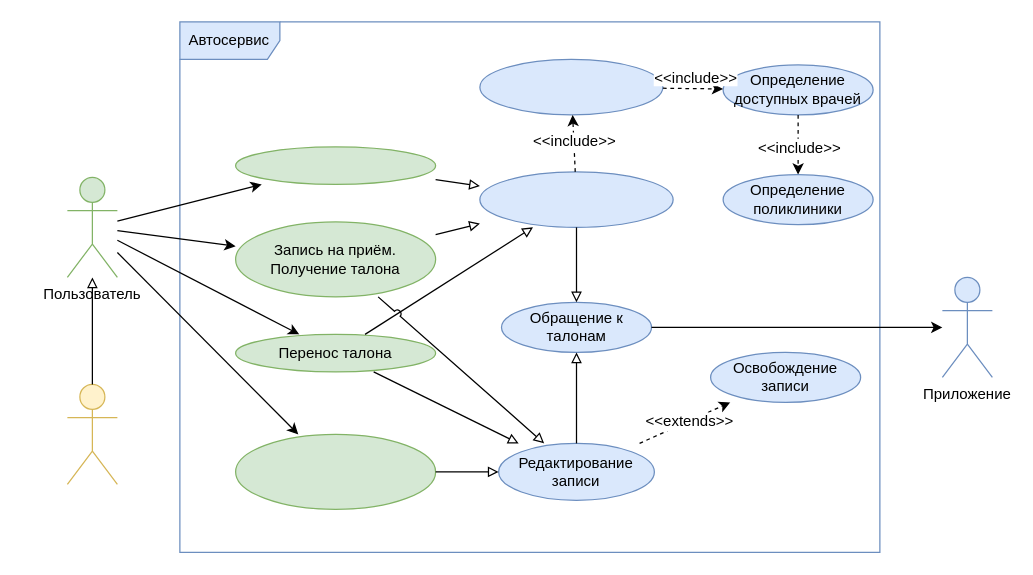
Image size: 1033x575. Some labels were removed from this diagram. The shapes that lost their labels are listed below. From the top down, each one's centre as x and y in pixels, then its label:
At point (571, 86): "Определение доступных талонов".
At point (335, 165): "Просмотр записей".
At point (576, 199): "Получение данных о доступных талонах".
At point (91, 433): "Клиент поликлиники".
At point (335, 471): "Отмена приёма. Аннулирование талона".
